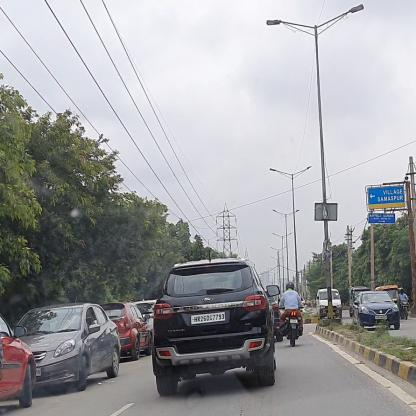car: (151, 258, 280, 397), (16, 302, 121, 392), (1, 315, 36, 407), (102, 302, 152, 360), (353, 290, 401, 328), (316, 288, 344, 320)
motorcycle: (279, 281, 303, 347), (400, 287, 411, 319)
